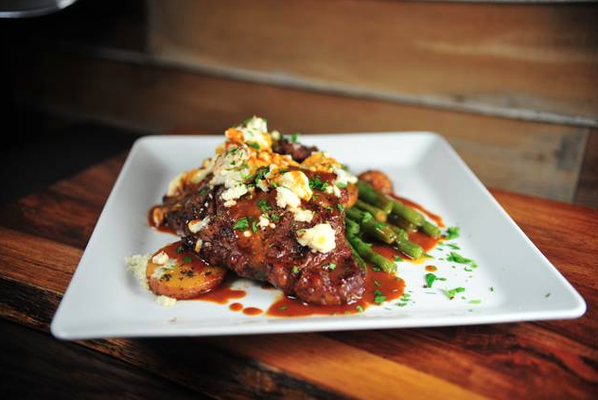curry: (8, 25, 595, 393)
sandwich: (146, 115, 465, 313)
